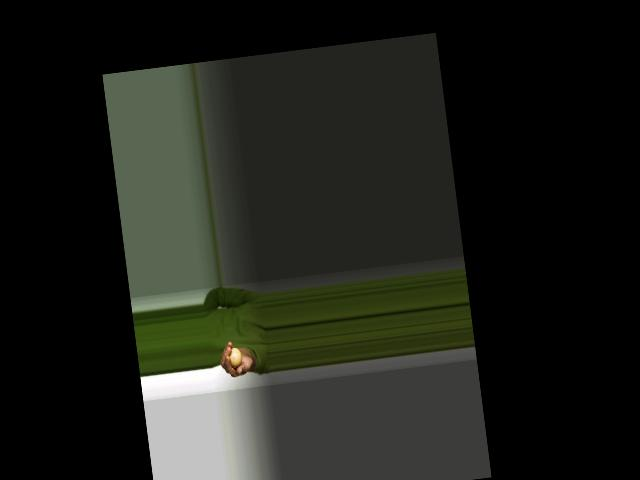egg: (228, 346, 242, 368)
